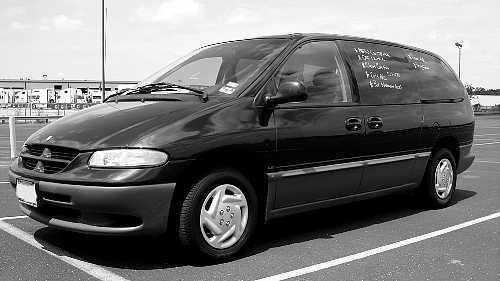car: (8, 31, 480, 261)
